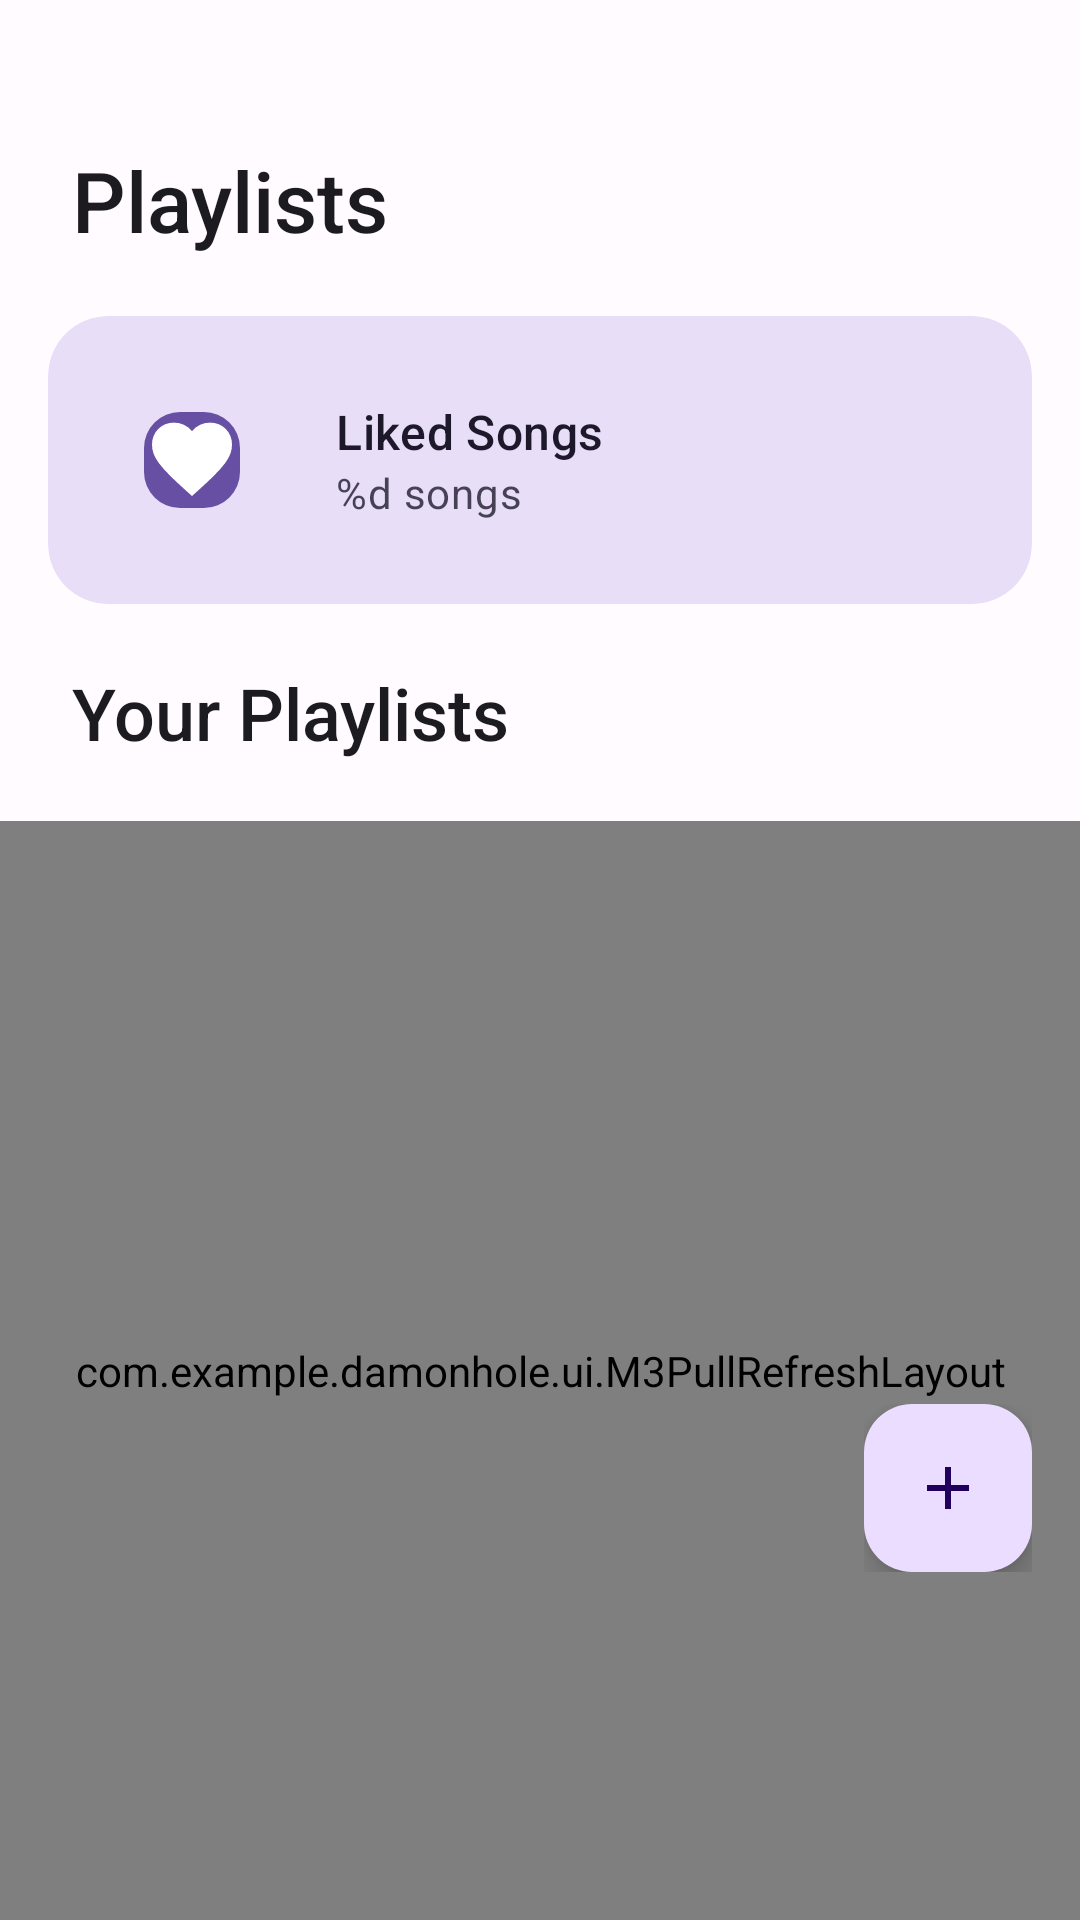

Icon bounding boxes for this 1080 x 1920 phone screenshot, format (x1, y1, x2, y2):
Add Menu: (864, 1404, 1032, 1572)
favorite: (144, 412, 240, 508)
